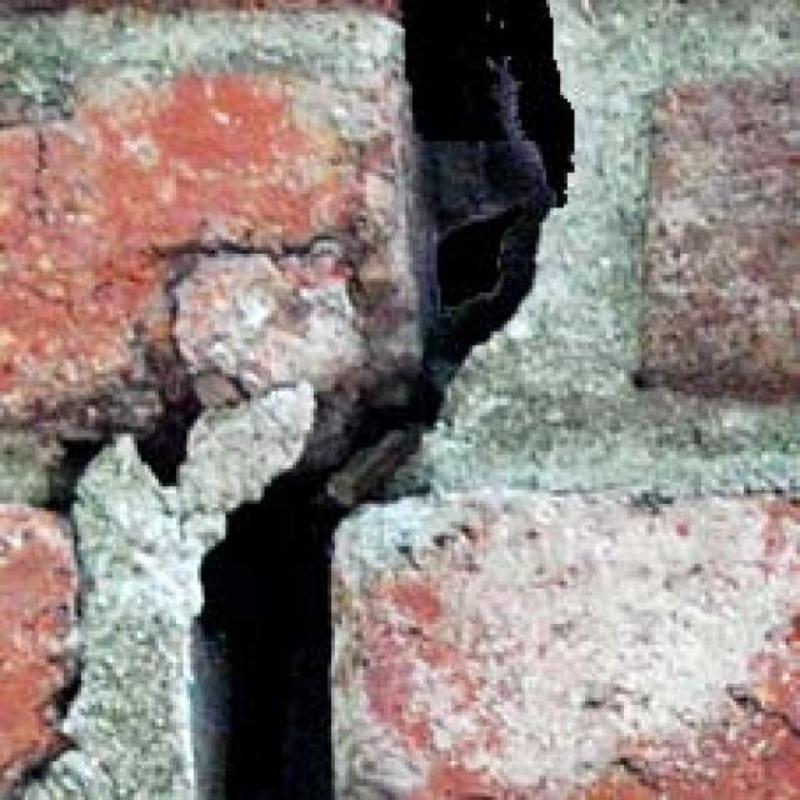crack: (202, 0, 573, 800), (136, 389, 203, 485), (45, 438, 109, 515)
